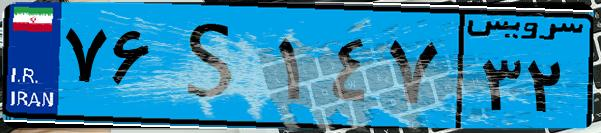1: (270, 28, 330, 110)
2: (525, 38, 570, 115)
3: (475, 38, 525, 113)
4: (330, 28, 385, 110)
6: (110, 28, 158, 98)
7: (385, 28, 445, 110), (57, 26, 110, 100)
S: (158, 12, 270, 120)
